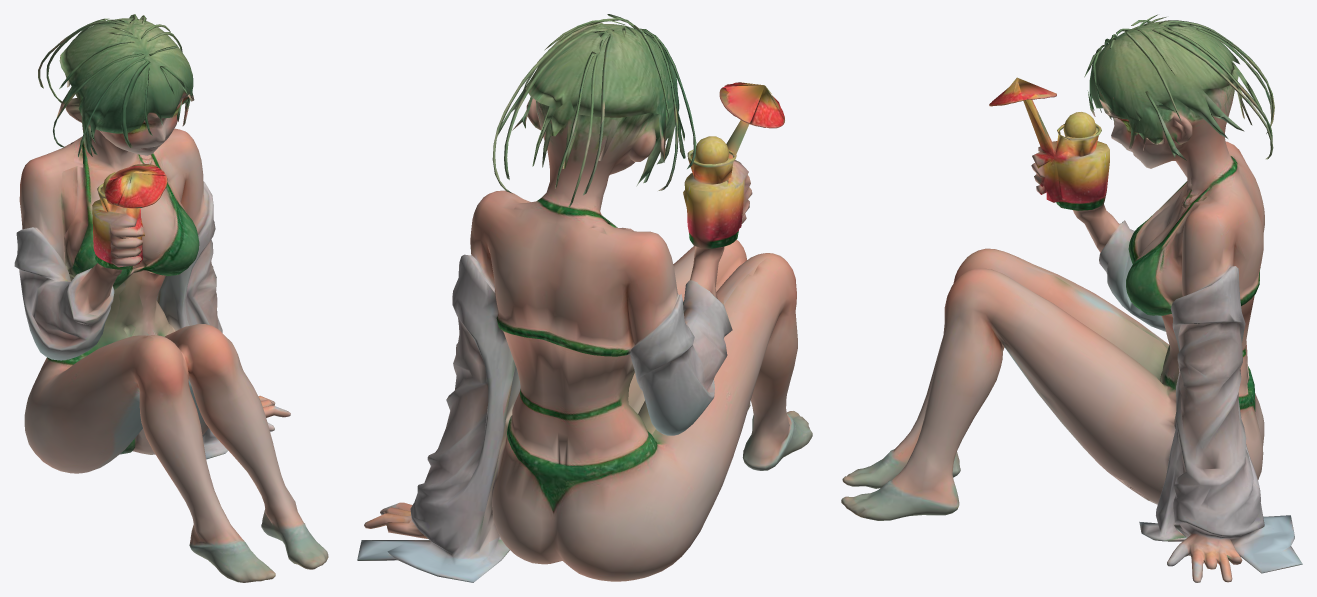
3 views of the same model, side by side, from view 1: azimuth 30°, elevation 25°; view 2: azimuth 150°, elevation 25°; view 3: azimuth 270°, elevation 25° (orthographic). The views are drawn at different scales.
Parts seen in each view (by area): view 1: material; view 2: material; view 3: material.
Boxes of the visible parts, x1,y1,x2,y2 form: material: [14, 14, 328, 582]; material: [357, 14, 812, 582]; material: [841, 14, 1302, 582].
Size of the model in its own units: 1.2 by 1.9 by 1.69.
Materials: 1 (1 with a texture image).
